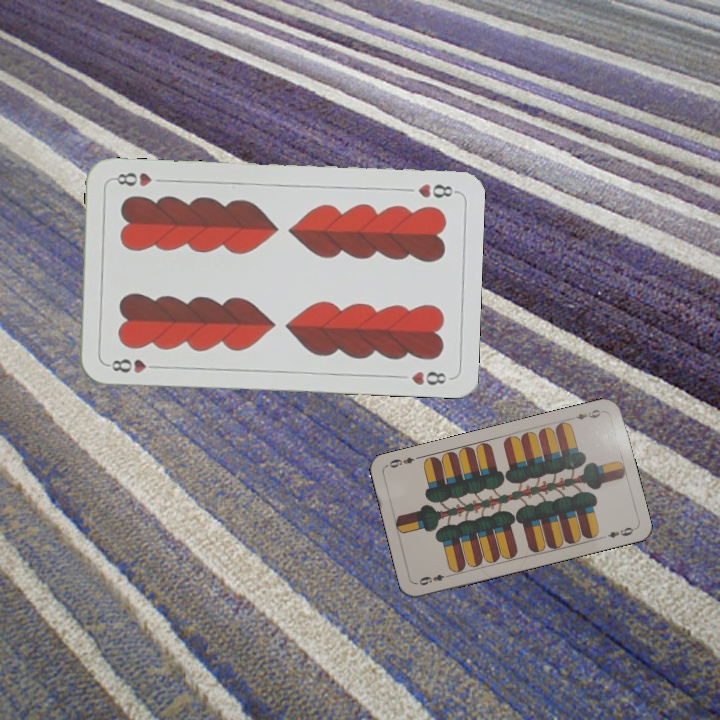E9: (415, 570, 453, 588), (572, 405, 606, 422)
H8: (103, 355, 162, 375), (414, 180, 459, 201)
